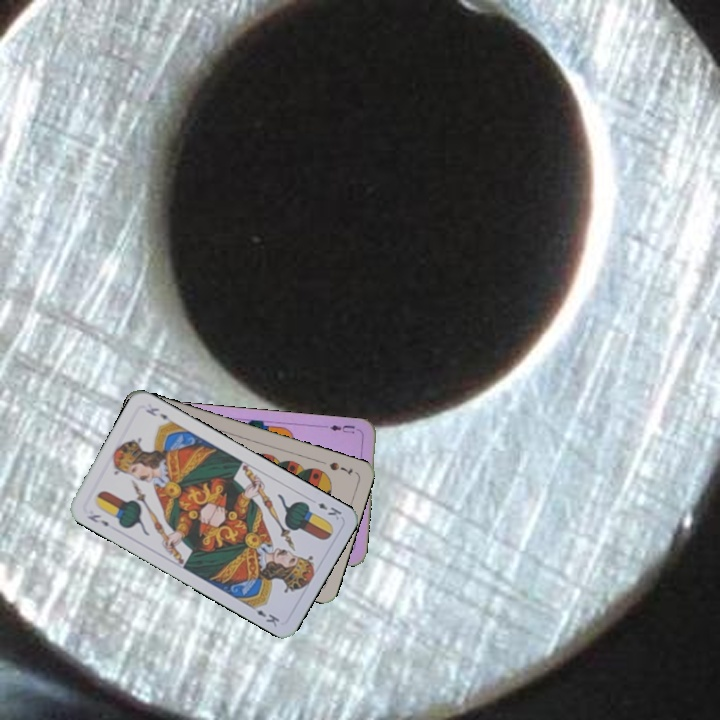EK: (313, 499, 344, 523), (83, 510, 111, 529)
EU: (326, 421, 357, 436)
S7: (325, 458, 355, 477)
